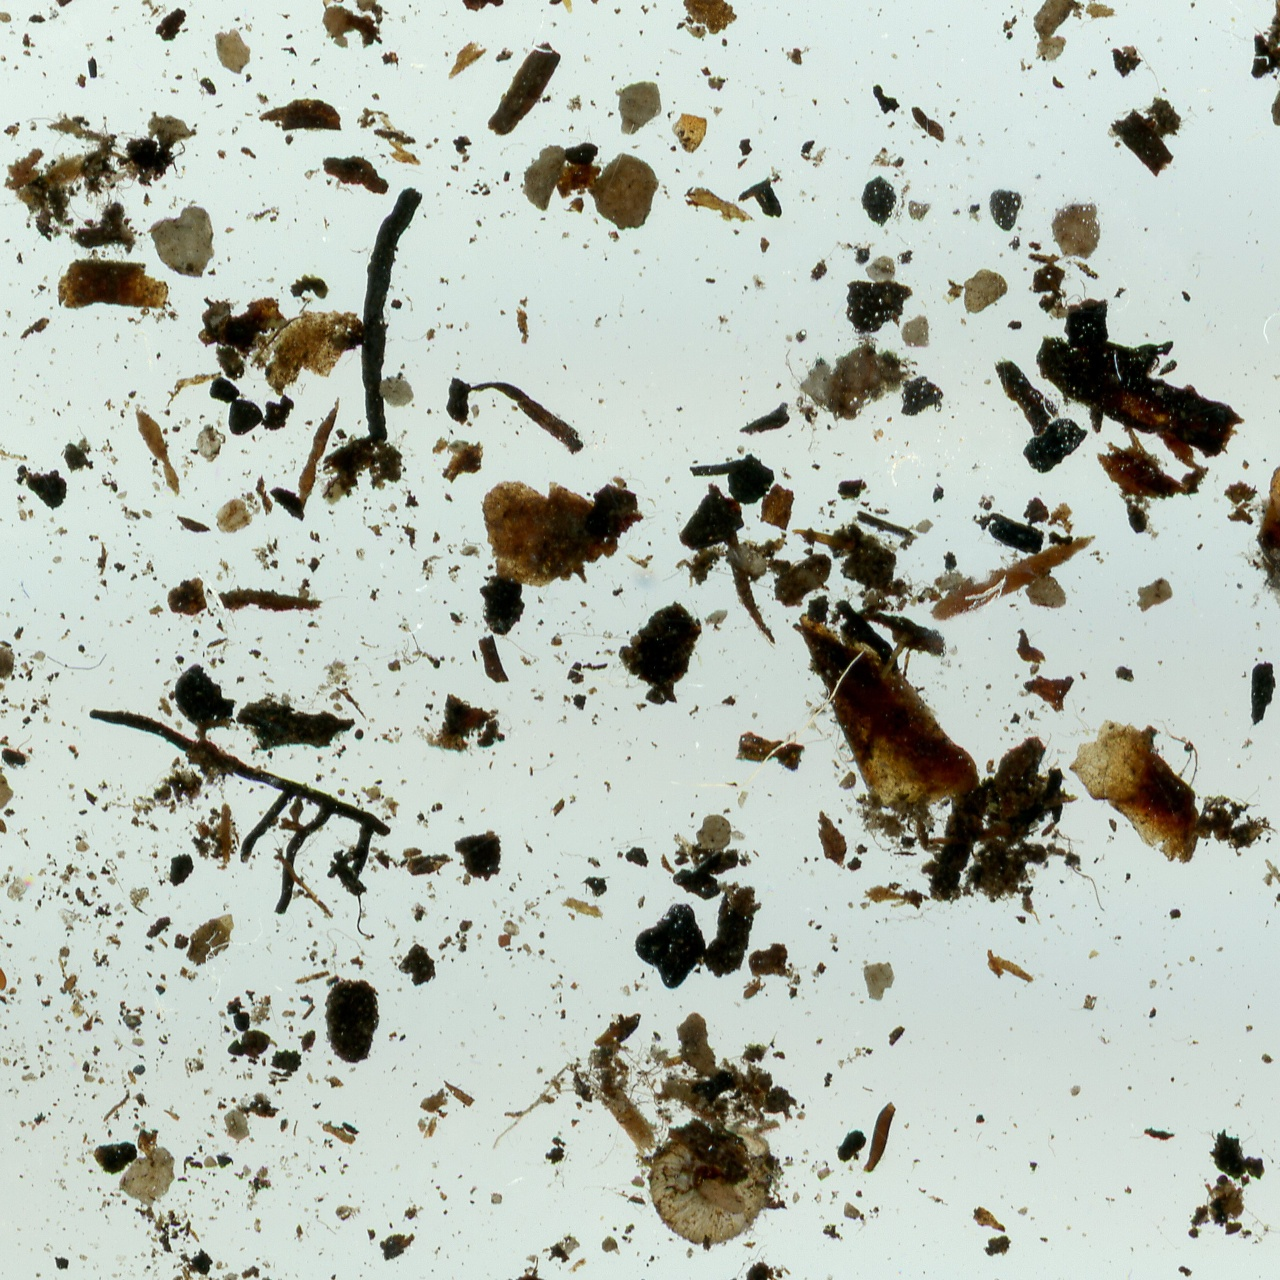arthropod: (0, 955, 8, 994)
